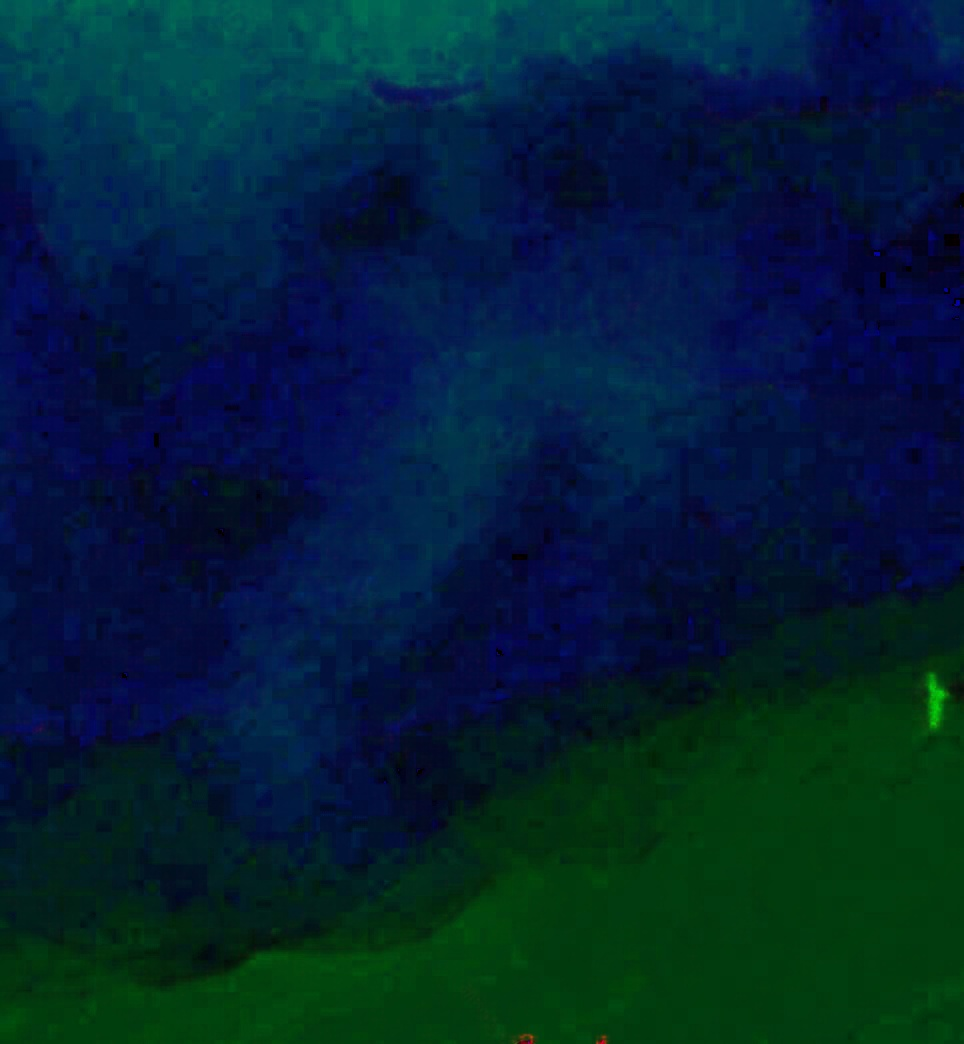rip_current: (177, 153, 708, 728)
